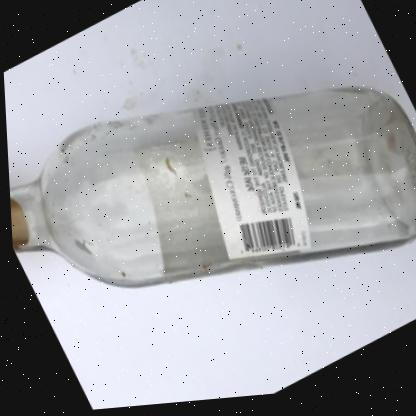Glass: (8, 94, 416, 288)
